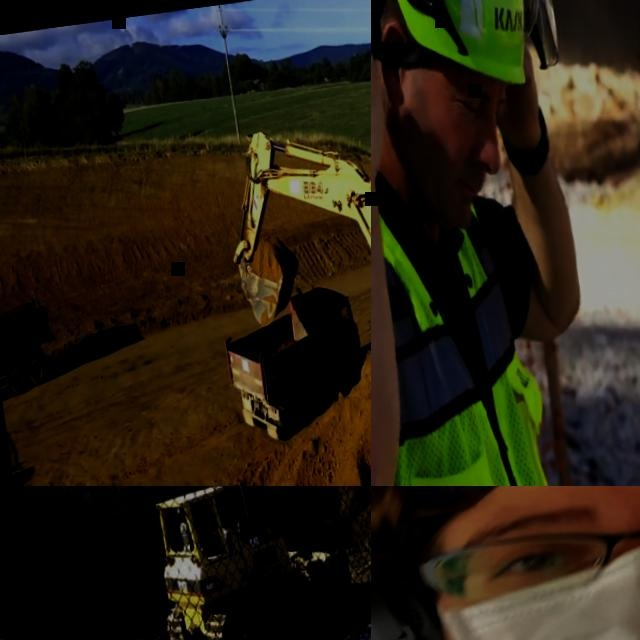Hardhat: (371, 0, 534, 100)
Mask: (434, 538, 640, 640)
NO-Hardhat: (371, 486, 640, 537)
NO-Mask: (372, 14, 509, 241)
Person: (371, 0, 615, 486), (371, 486, 640, 640)
Safety Vest: (371, 117, 564, 486)
machinery: (216, 96, 371, 411), (150, 486, 351, 640), (216, 279, 371, 447), (0, 287, 59, 395)
